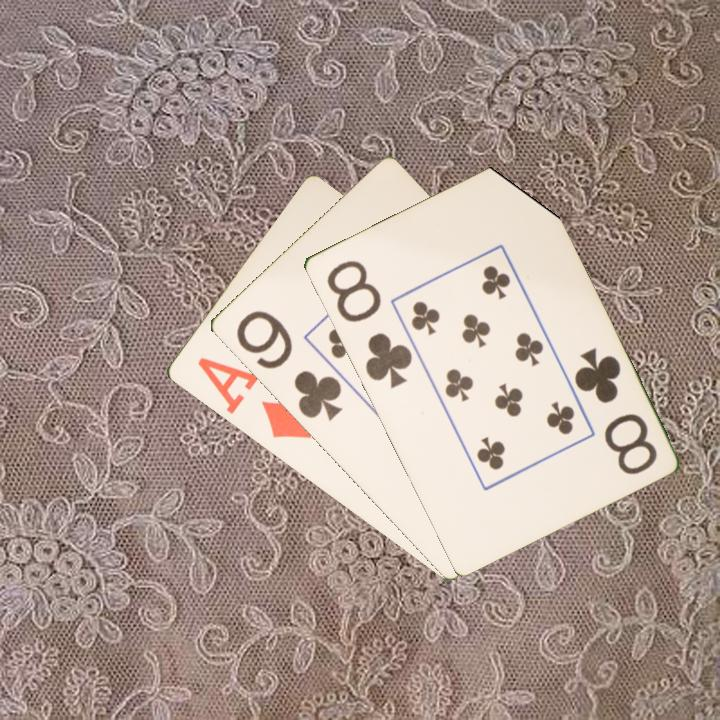8c: (322, 256, 415, 392), (570, 343, 660, 478)
9c: (232, 306, 345, 424)
Ad: (193, 353, 315, 442)
